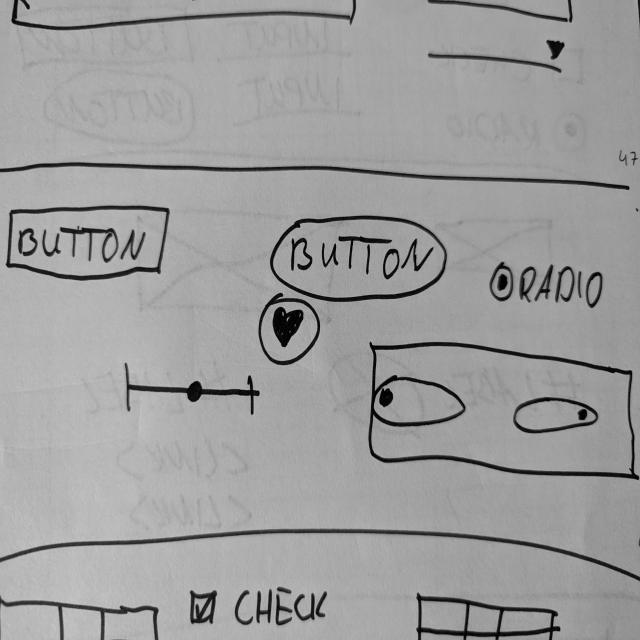button: (268, 214, 450, 305), (5, 204, 174, 283)
checkbox: (188, 582, 336, 636)
container: (1, 162, 640, 584), (367, 342, 638, 483)
icon-button: (256, 296, 323, 369)
radio: (488, 260, 608, 315)
select: (425, 34, 570, 77)
slider: (122, 360, 264, 422)
toggle: (371, 374, 468, 433), (512, 396, 602, 437)
